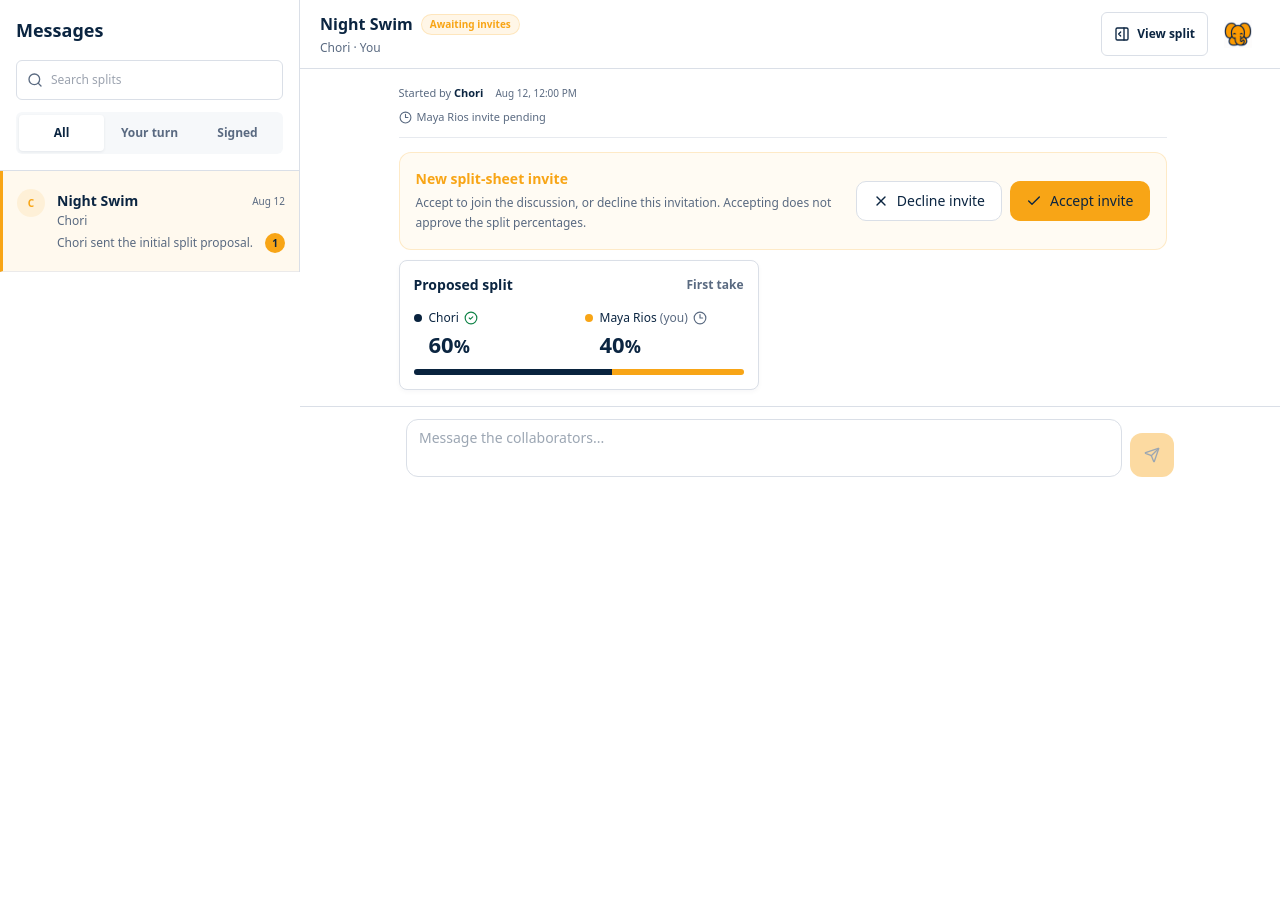
Scenario: invitation responses › keeps the invitation pending on a failed decline and supports retry
Click the button "Decline invite".
click(929, 201)  # box [856,181,1002,221]
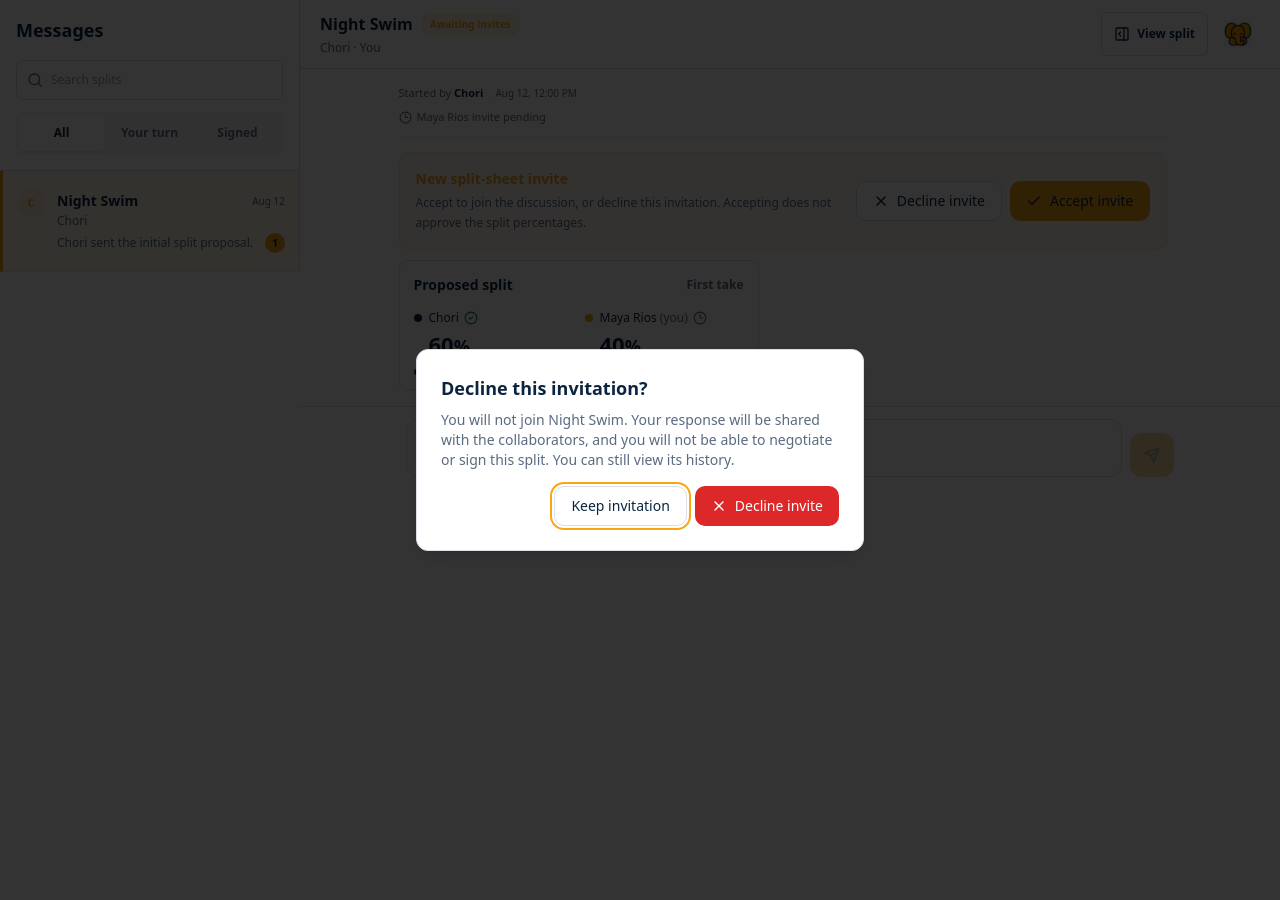
Click the button "Decline invite".
click(767, 506)  # box [695,486,839,526]
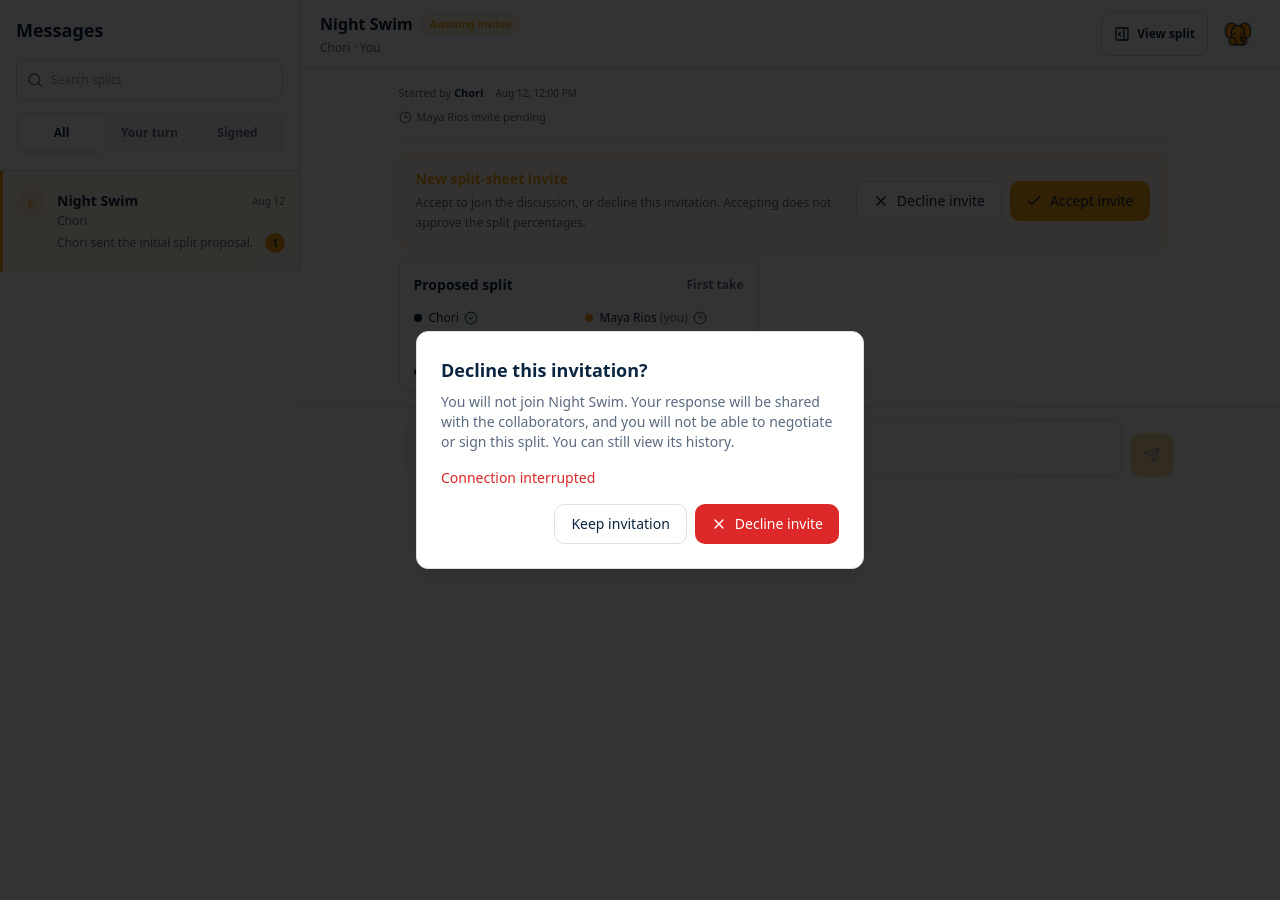
Check: the message reads "Connection interrupted", box [441,468,595,487]
Click the button "Decline invite".
click(767, 524)  # box [695,504,839,544]
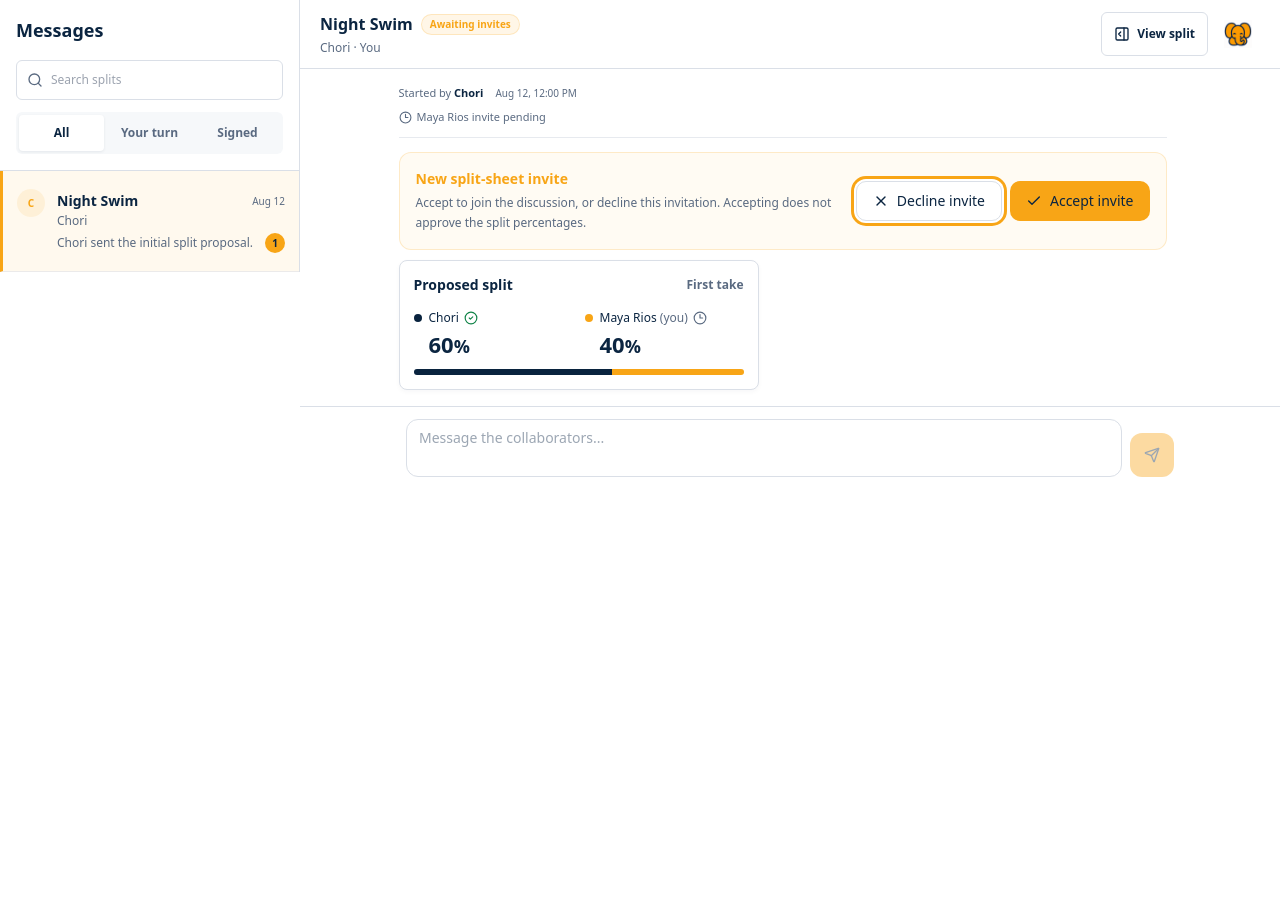
Check: the dialog is gone
